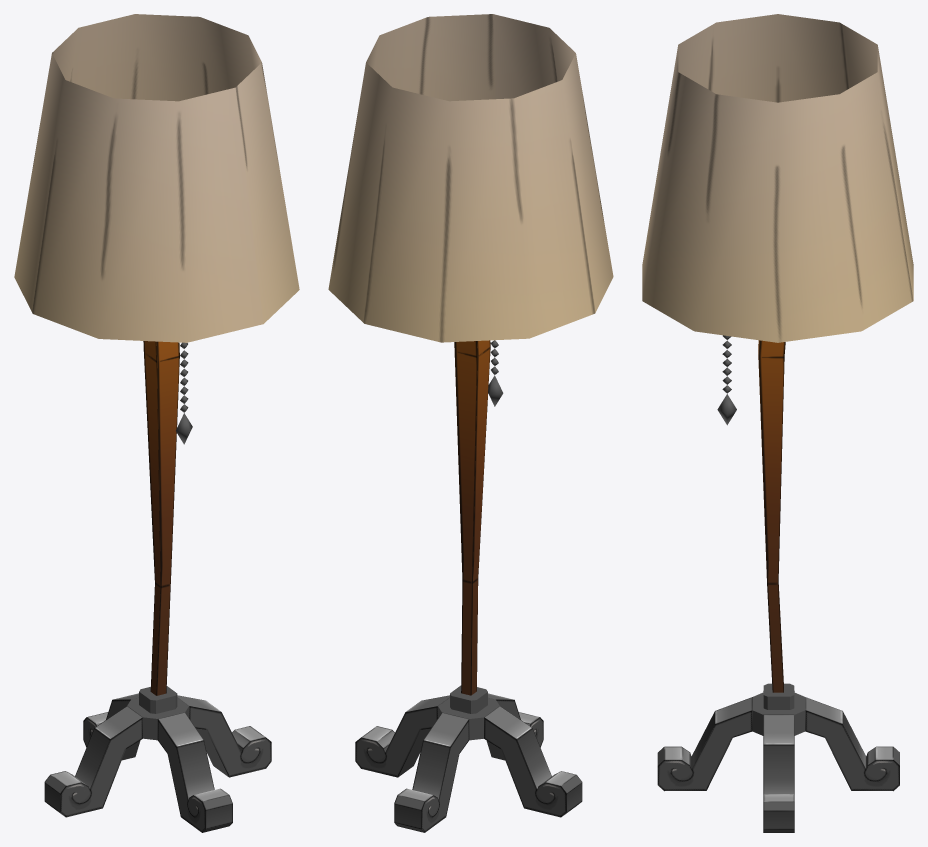
The model's file is Light.FBX.
The picture shows the model from 3 angles, left to right: view 1: azimuth 30°, elevation 25°; view 2: azimuth 150°, elevation 25°; view 3: azimuth 270°, elevation 25°; orthographic projection.
Visible parts, largest first — view 1: Box010; view 2: Box010; view 3: Box010.
Boxes of the visible parts, left/top/right/bottom form: Box010: left=14, top=14, right=299, bottom=832; Box010: left=328, top=14, right=613, bottom=832; Box010: left=642, top=14, right=913, bottom=832.
Size of the model in its own units: 121 by 341 by 115.
